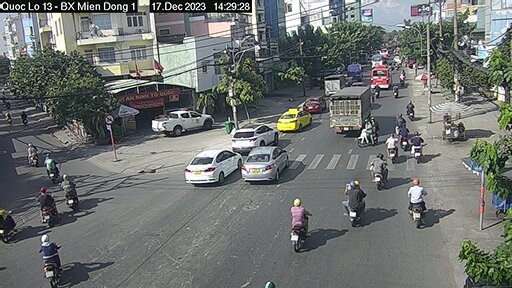car: (181, 149, 238, 186), (331, 88, 371, 132), (148, 109, 216, 134), (240, 149, 292, 180), (230, 125, 282, 150), (276, 109, 308, 132), (301, 97, 327, 114), (372, 69, 392, 91), (348, 62, 364, 83)
motorbike: (285, 198, 313, 251), (342, 180, 368, 228), (408, 178, 429, 226), (41, 233, 61, 281), (60, 172, 82, 210), (37, 189, 56, 223), (370, 155, 387, 190), (409, 131, 425, 161), (384, 134, 400, 162), (42, 151, 55, 180), (406, 100, 416, 120)
